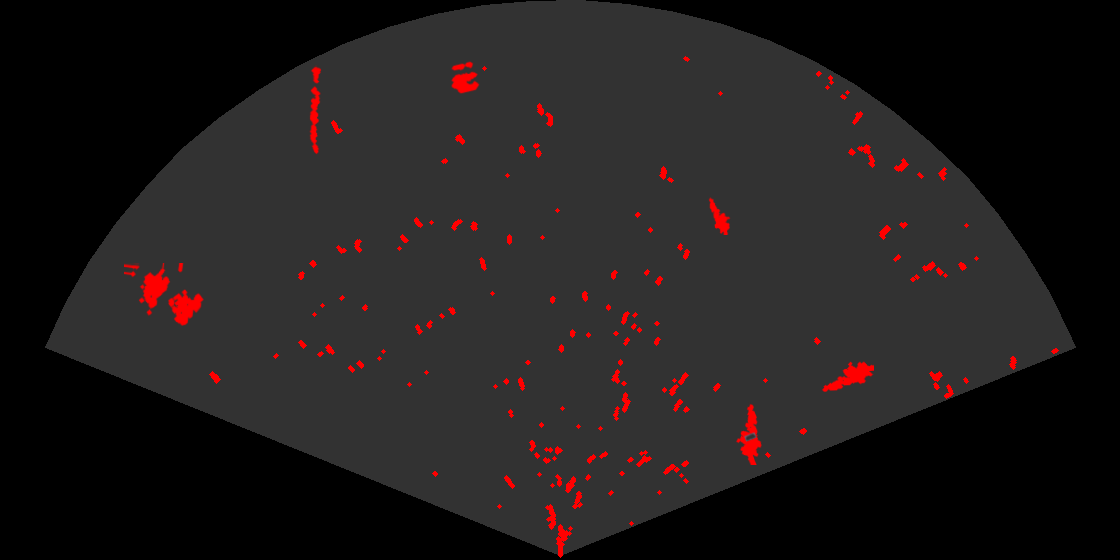ball: (450, 60, 481, 95)
cage: (124, 263, 205, 327)
chain: (308, 65, 323, 155)
frogman: (734, 402, 763, 465), (820, 360, 874, 393), (707, 197, 732, 235)
